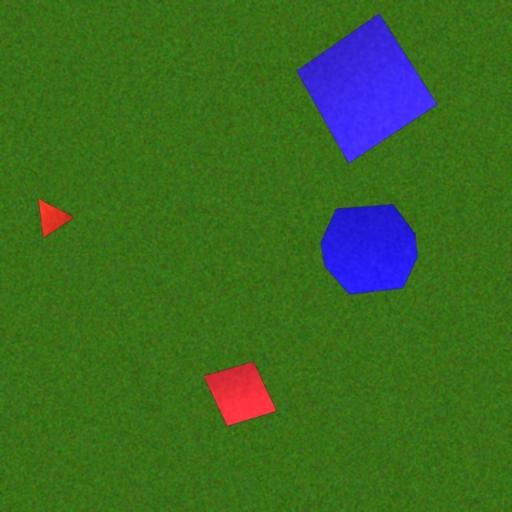BLUE_SQUARE: (296, 13, 438, 164)
RED_SQUARE: (202, 361, 278, 427)
